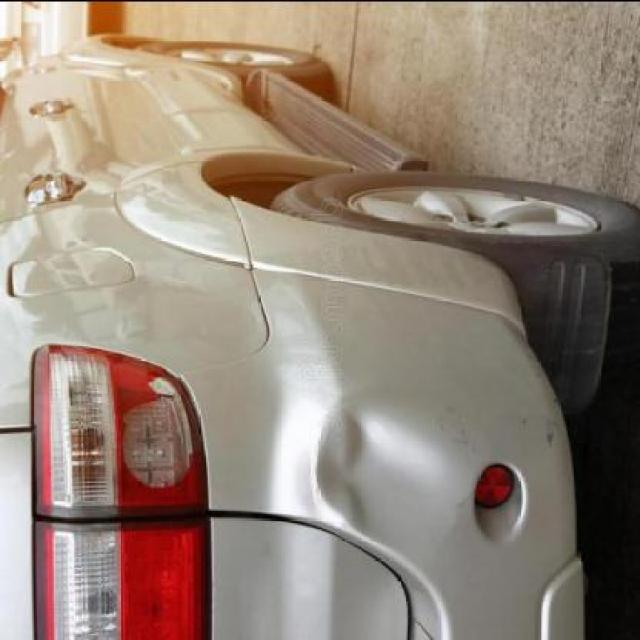damage: (313, 388, 476, 562), (113, 370, 208, 497), (542, 419, 561, 450)
